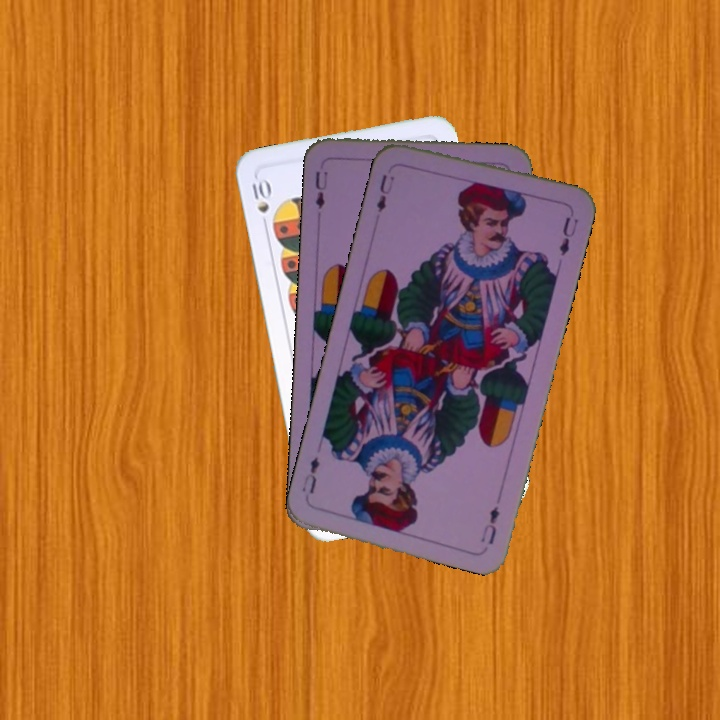EU: (476, 502, 502, 548), (372, 170, 397, 215), (311, 167, 331, 211)
S10: (248, 173, 273, 232)
